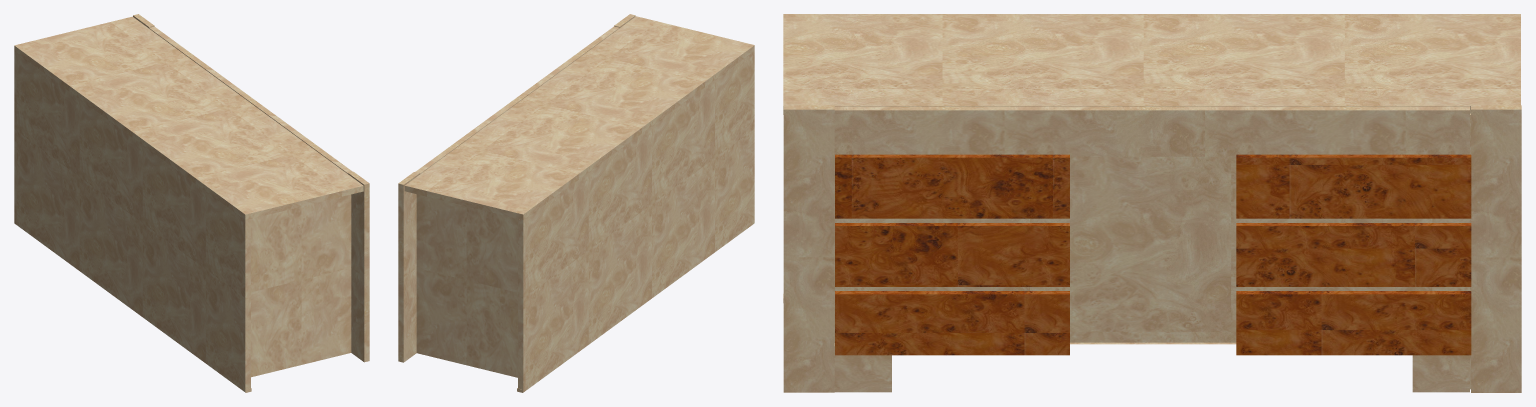
The model's file is locker.FBX.
3 renders of one model, left to right at view 1: azimuth 30°, elevation 25°; view 2: azimuth 150°, elevation 25°; view 3: azimuth 270°, elevation 25°, orthographic. The views are drawn at different scales.
Visible parts, largest first — view 1: Box183, Box177, Box196, Box194, Box13; view 2: Box183, Box177, Box14, Box15, Box13; view 3: Box177, Plane176, Box13, Box199, Box201, Box193, Box198, Box200, Box197, Box194, Box15, Box195 (+1 smaller).
Part boxes in pixels (x1,y1,x2,y2): Box183: (14, 51, 250, 392); Box177: (14, 16, 363, 220); Box196: (251, 194, 351, 377); Box194: (348, 171, 369, 362); Box13: (149, 26, 352, 173); Box183: (518, 51, 754, 392); Box177: (404, 16, 754, 219); Box14: (416, 194, 517, 377); Box15: (398, 172, 419, 362); Box13: (415, 26, 619, 174); Box177: (783, 14, 1520, 114); Plane176: (835, 156, 1469, 342); Box13: (834, 106, 1469, 156); Box199: (1236, 154, 1471, 218); Box201: (1236, 291, 1471, 355); Box193: (835, 154, 1069, 218); Box198: (835, 291, 1069, 355); Box200: (1236, 223, 1471, 286); Box197: (835, 223, 1069, 286); Box194: (783, 105, 834, 392); Box15: (1471, 105, 1521, 392); Box195: (834, 343, 891, 392).
Size of the model in its own units: 18.26 by 24.34 by 57.01.
Materials: 2 (2 with a texture image).
